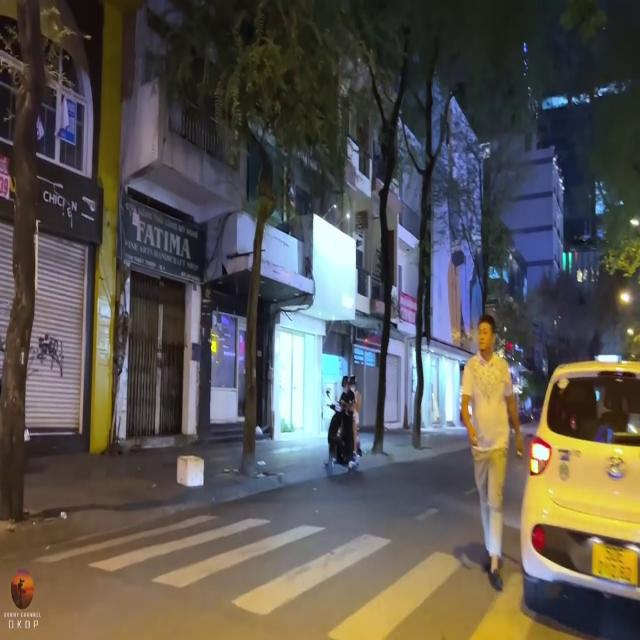bien_vang: (592, 537, 638, 591)
